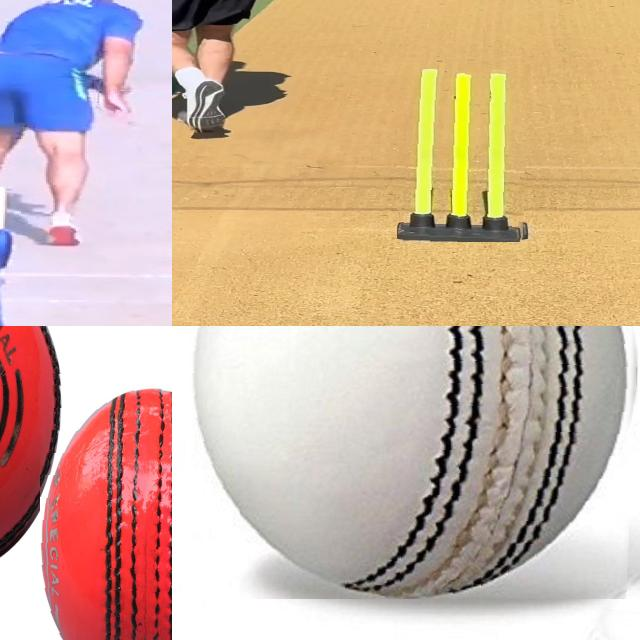Cricket ball: (188, 326, 640, 599), (40, 373, 172, 640)
Stumps: (397, 64, 530, 242)
